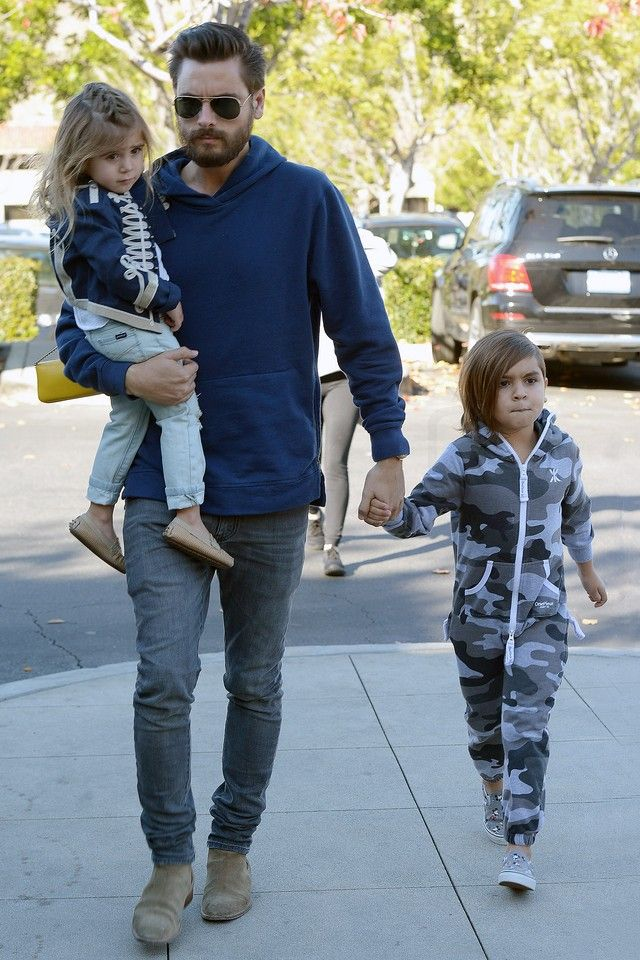Person: (117, 22, 405, 946), (409, 328, 607, 895), (38, 80, 229, 575)
